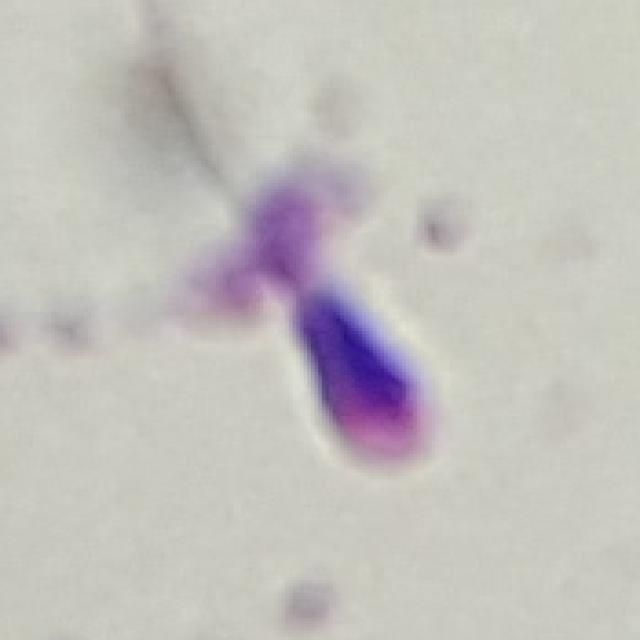abnormal sperm: (118, 8, 458, 476)
